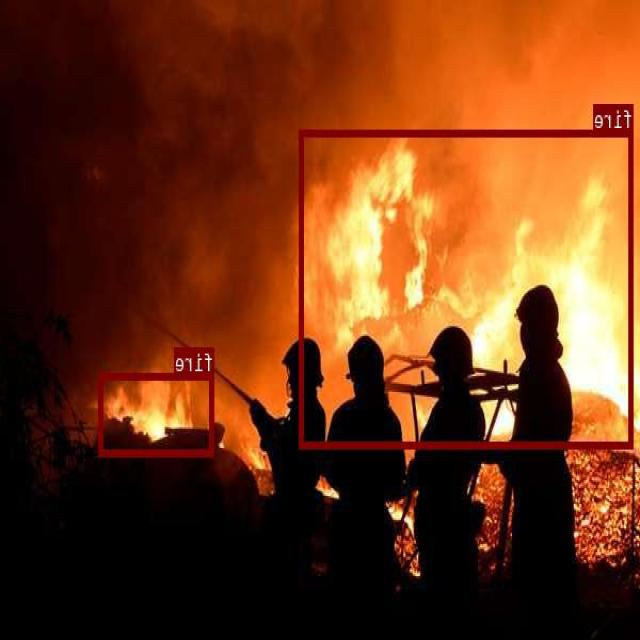fire: (300, 128, 635, 447), (100, 372, 215, 455)
